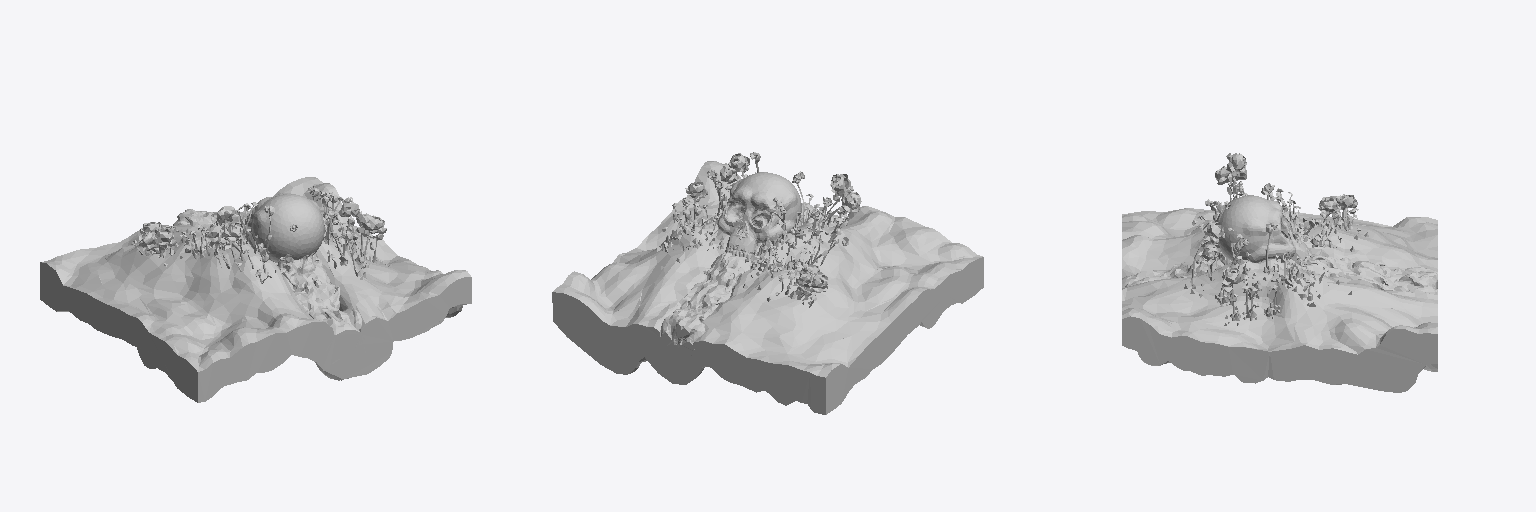
The model's file is skullcb.obj.
The picture shows the model from 3 angles: view 1: azimuth 30°, elevation 25°; view 2: azimuth 150°, elevation 25°; view 3: azimuth 270°, elevation 25°; orthographic projection.
Parts seen in each view (by area): view 1: Clay_2, Clay_5, Clay, Clay_3, Clay_4; view 2: Clay_2, Clay, Clay_5, Clay_3, Clay_4; view 3: Clay_2, Clay, Clay_4, Clay_5, Clay_3.
Boxes of the visible parts, box(x1,y1,x2,y2) form: Clay_2: box(40, 177, 471, 402); Clay_5: box(173, 209, 365, 380); Clay: box(245, 193, 324, 262); Clay_3: box(132, 186, 386, 277); Clay_4: box(134, 188, 391, 283); Clay_2: box(552, 161, 983, 414); Clay: box(717, 172, 801, 258); Clay_5: box(660, 208, 844, 358); Clay_3: box(662, 152, 861, 300); Clay_4: box(657, 153, 848, 307); Clay_2: box(1122, 208, 1437, 392); Clay: box(1216, 195, 1311, 266); Clay_4: box(1184, 172, 1368, 325); Clay_5: box(1122, 250, 1437, 294); Clay_3: box(1192, 153, 1360, 306).
Size of the model in its own units: 1 by 0.5431 by 1.